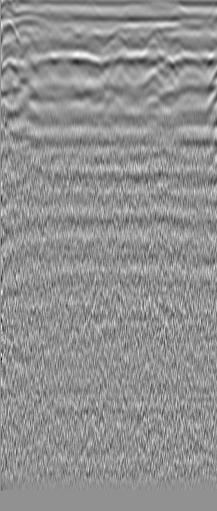오수: (18, 37, 43, 66)
우수: (161, 33, 192, 66)
